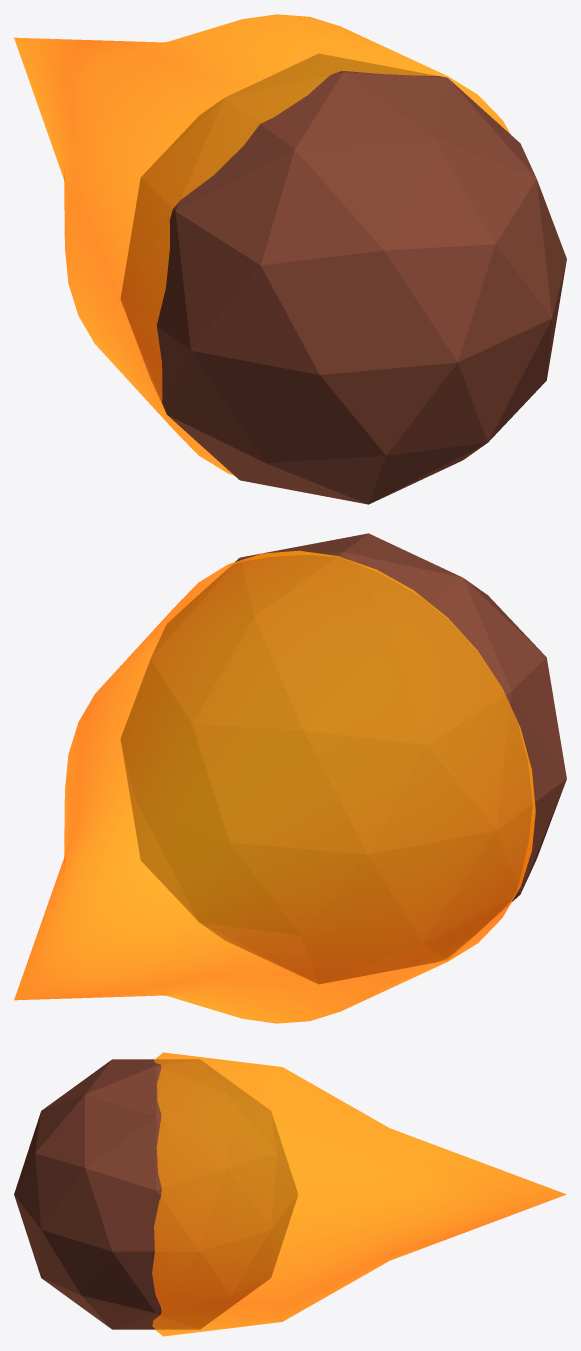
File: Meteor.fbx
The picture shows the model from 3 angles, top to bottom: view 1: azimuth 30°, elevation 25°; view 2: azimuth 150°, elevation 25°; view 3: azimuth 270°, elevation 25°; orthographic projection. The views are drawn at different scales.
Parts seen in each view (by area): view 1: Meteor; view 2: Meteor; view 3: Meteor.
Boxes of the visible parts, x1,y1,x2,y2 form: Meteor: [14, 14, 566, 504]; Meteor: [14, 533, 566, 1023]; Meteor: [14, 1052, 566, 1336].
Bounding box in the file's own units: 200 × 200 × 389.
